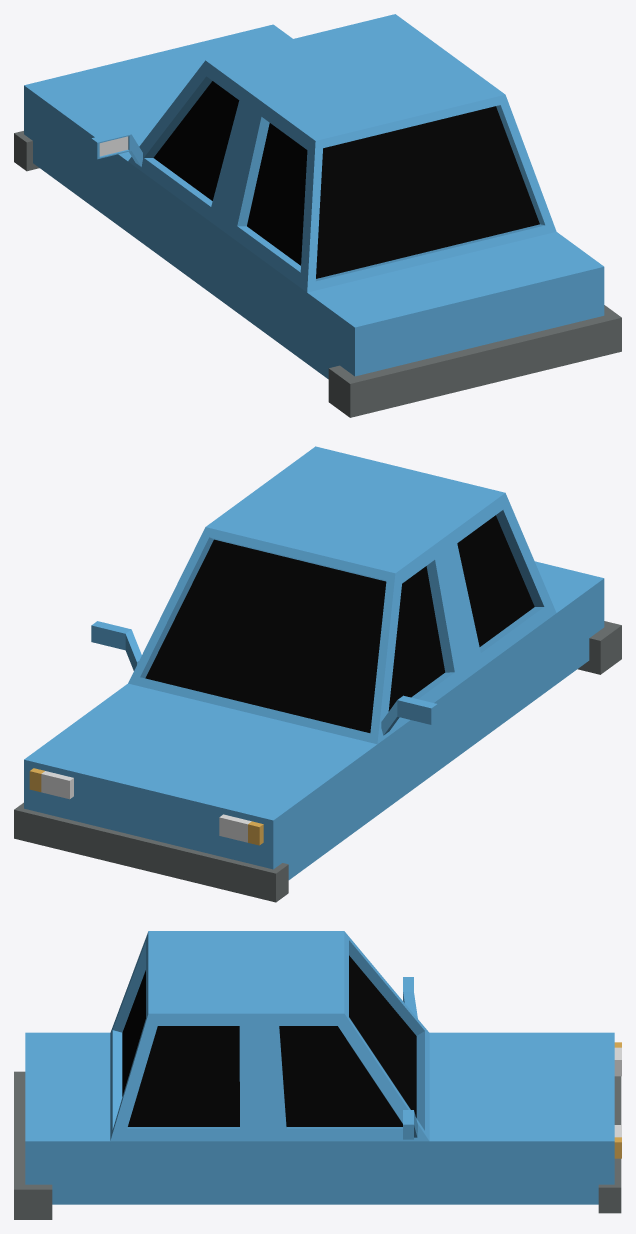
Rendered from polycar.glb.
3 renders of one model, top to bottom at view 1: azimuth 30°, elevation 25°; view 2: azimuth 150°, elevation 25°; view 3: azimuth 270°, elevation 25°, orthographic. The views are drawn at different scales.
Parts seen in each view (by area): view 1: Cube, Cube.003; view 2: Cube, Cube.003, Cube.004, Cube.005, Cube.001; view 3: Cube, Cube.004.
Boxes of the visible parts, left/top/right/bottom form: Cube: left=14, top=14, right=621, bottom=417; Cube.003: left=91, top=130, right=142, bottom=166; Cube: left=14, top=446, right=621, bottom=902; Cube.003: left=381, top=695, right=437, bottom=735; Cube.004: left=91, top=621, right=141, bottom=670; Cube.005: left=29, top=768, right=73, bottom=799; Cube.001: left=219, top=814, right=263, bottom=845; Cube: left=14, top=931, right=621, bottom=1219; Cube.004: left=403, top=1110, right=417, bottom=1139.
Size of the model in its own units: 2.73 by 1.62 by 4.74.
